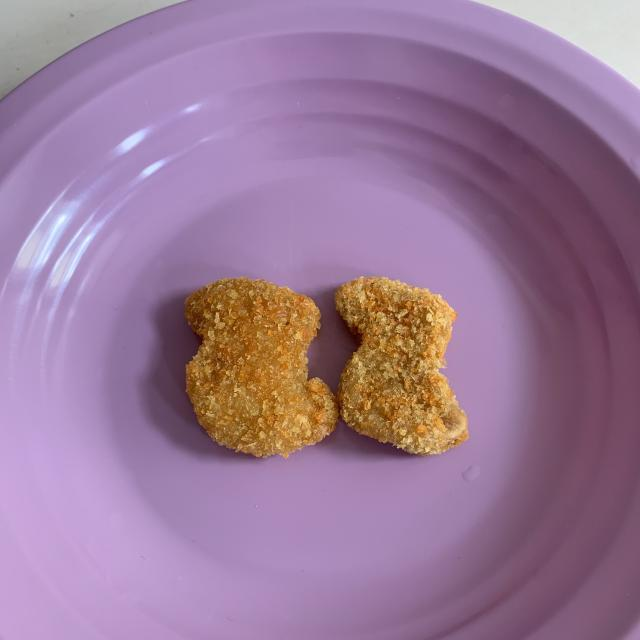Frango: (182, 276, 338, 462), (335, 272, 466, 452)
